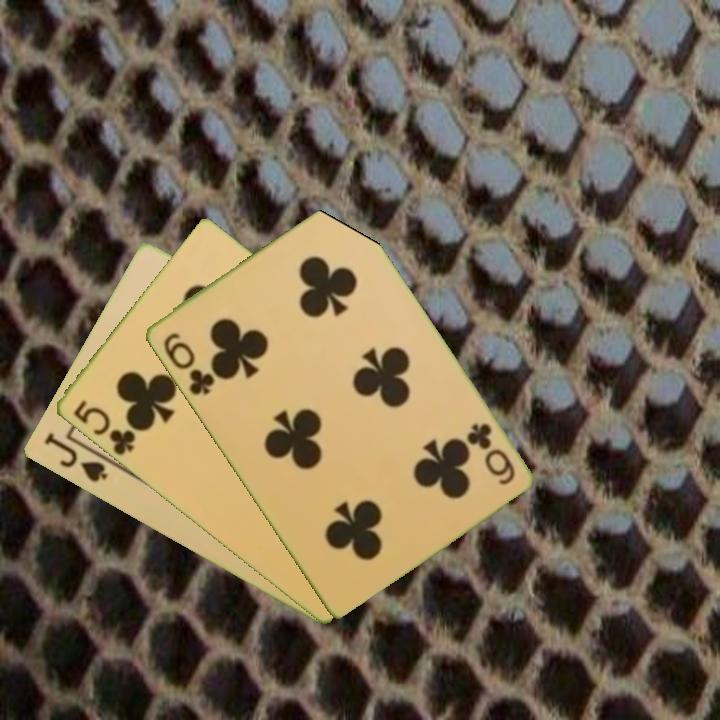5c: (69, 396, 138, 459)
6c: (159, 328, 217, 398), (462, 419, 518, 488)
Js: (40, 429, 110, 485)
